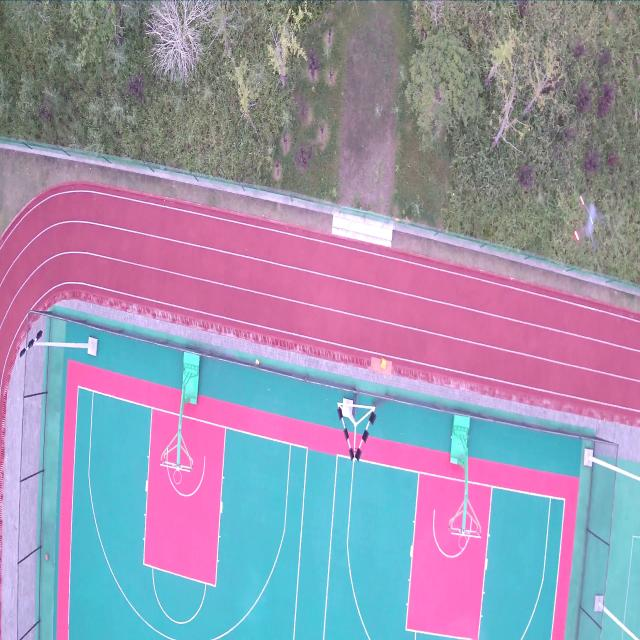UAV: (572, 192, 607, 253)
